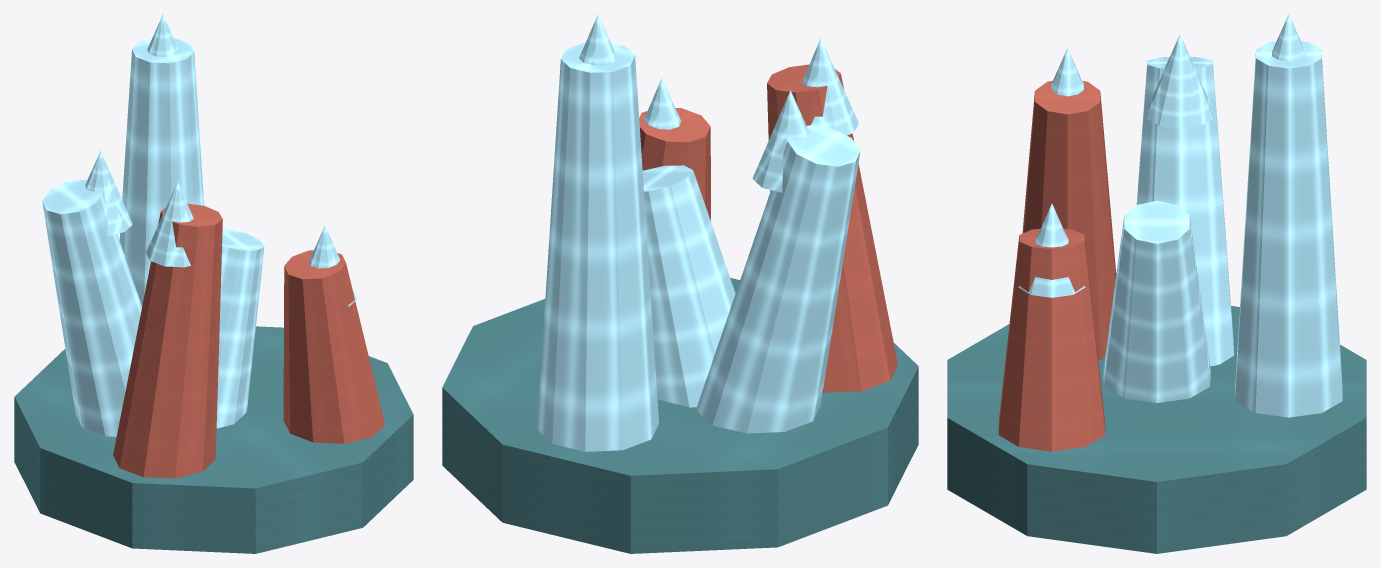
File: atlas100-s071-a04.lod1.glb
3 views of the same model, side by side, from view 1: azimuth 30°, elevation 25°; view 2: azimuth 150°, elevation 25°; view 3: azimuth 270°, elevation 25° (orthographic). The views are drawn at different scales.
Visible parts, largest first — view 1: atlas100-s071-a04:part-000, atlas100-s071-a04:part-003, atlas100-s071-a04:part-009, atlas100-s071-a04:part-007, atlas100-s071-a04:part-005, atlas100-s071-a04:part-001, atlas100-s071-a04:part-004, atlas100-s071-a04:part-010, atlas100-s071-a04:part-008, atlas100-s071-a04:part-006; view 2: atlas100-s071-a04:part-000, atlas100-s071-a04:part-005, atlas100-s071-a04:part-009, atlas100-s071-a04:part-001, atlas100-s071-a04:part-003, atlas100-s071-a04:part-007, atlas100-s071-a04:part-004, atlas100-s071-a04:part-010, atlas100-s071-a04:part-008, atlas100-s071-a04:part-006; view 3: atlas100-s071-a04:part-000, atlas100-s071-a04:part-005, atlas100-s071-a04:part-007, atlas100-s071-a04:part-001, atlas100-s071-a04:part-003, atlas100-s071-a04:part-009, atlas100-s071-a04:part-010, atlas100-s071-a04:part-008, atlas100-s071-a04:part-004, atlas100-s071-a04:part-006.
Part boxes in pixels (box(x1,y1,x2,y2)): atlas100-s071-a04:part-000: box(14, 326, 413, 553); atlas100-s071-a04:part-003: box(113, 203, 222, 478); atlas100-s071-a04:part-009: box(42, 179, 141, 436); atlas100-s071-a04:part-007: box(283, 250, 385, 443); atlas100-s071-a04:part-005: box(119, 38, 204, 306); atlas100-s071-a04:part-001: box(216, 228, 264, 428); atlas100-s071-a04:part-004: box(146, 181, 193, 267); atlas100-s071-a04:part-010: box(85, 150, 132, 235); atlas100-s071-a04:part-008: box(309, 225, 356, 306); atlas100-s071-a04:part-006: box(147, 14, 178, 56); atlas100-s071-a04:part-000: box(442, 278, 918, 553); atlas100-s071-a04:part-005: box(537, 43, 658, 451); atlas100-s071-a04:part-009: box(696, 125, 860, 433); atlas100-s071-a04:part-001: box(642, 165, 735, 407); atlas100-s071-a04:part-003: box(767, 64, 897, 392); atlas100-s071-a04:part-007: box(639, 108, 710, 220); atlas100-s071-a04:part-004: box(801, 38, 858, 135); atlas100-s071-a04:part-010: box(752, 90, 808, 192); atlas100-s071-a04:part-008: box(644, 78, 681, 129); atlas100-s071-a04:part-006: box(579, 14, 616, 65); atlas100-s071-a04:part-000: box(947, 306, 1366, 553); atlas100-s071-a04:part-005: box(1235, 41, 1342, 417); atlas100-s071-a04:part-007: box(998, 228, 1105, 451); atlas100-s071-a04:part-001: box(1103, 201, 1210, 402); atlas100-s071-a04:part-003: box(1022, 80, 1116, 359); atlas100-s071-a04:part-009: box(1136, 56, 1234, 366); atlas100-s071-a04:part-010: box(1146, 34, 1213, 128); atlas100-s071-a04:part-008: box(1018, 203, 1085, 297); atlas100-s071-a04:part-004: box(1051, 48, 1084, 96); atlas100-s071-a04:part-006: box(1272, 14, 1305, 61).
Size of the model in its own units: 1.07 by 1.21 by 1.02.
Materials: 3 (3 with a texture image).
